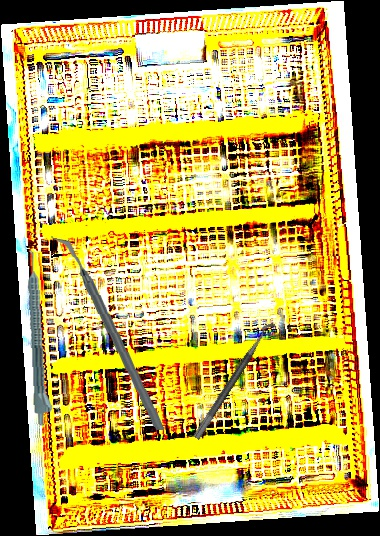Chopper: (51, 230, 166, 436)
Fixation Ring: (192, 319, 284, 447)
Handpiece: (25, 249, 55, 427)
